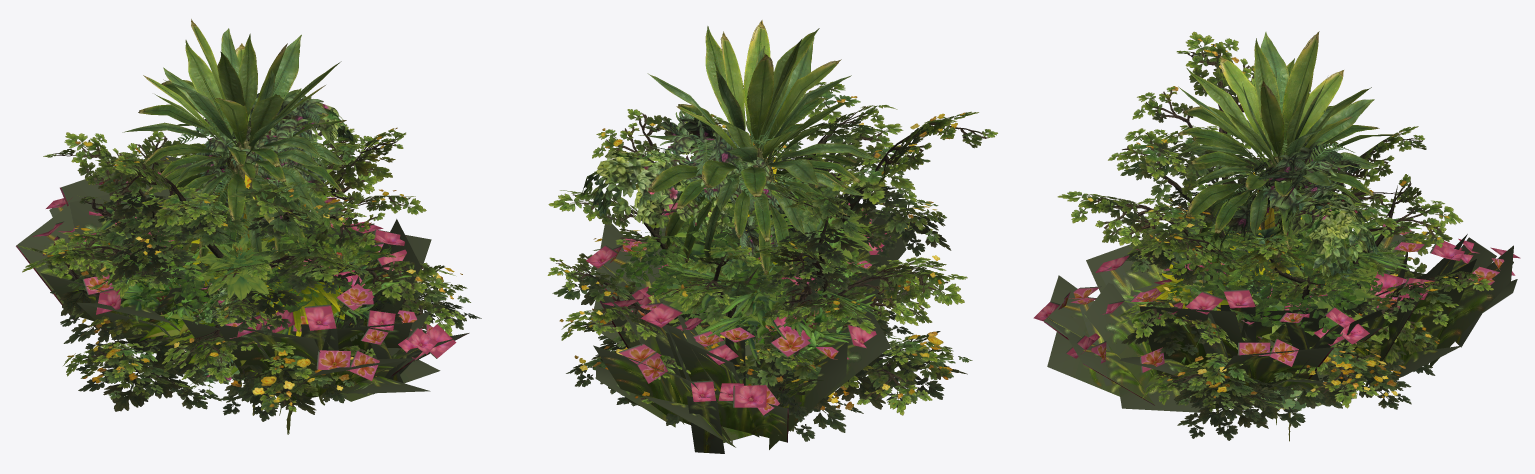
Rendered from huacao.FBX.
3 renders of one model, left to right at view 1: azimuth 30°, elevation 25°; view 2: azimuth 150°, elevation 25°; view 3: azimuth 270°, elevation 25°, orthographic. The views are drawn at different scales.
Parts seen in each view (by area): view 1: byg_plant_frutex001, byg_plant_grass002, hfs_plant_tree016, hfs_plant_tree013, ngg_plant_frutex002, lhd_plant_frutex002, pds_plant_grass_001, ngg_plant_frutex001, byg_plant_grass001; view 2: byg_plant_frutex001, byg_plant_grass002, hfs_plant_tree016, hfs_plant_tree013, pds_plant_grass_001, ngg_plant_frutex001, ngg_plant_frutex002, lhd_plant_frutex002; view 3: byg_plant_frutex001, byg_plant_grass002, hfs_plant_tree016, hfs_plant_tree013, ngg_plant_frutex002, ngg_plant_frutex001, lhd_plant_frutex002, pds_plant_grass_001, hfs_plant_grass002.
Part boxes in pixels (<box>): byg_plant_frutex001: <box>18,124,481,421</box>; byg_plant_grass002: <box>16,156,469,403</box>; hfs_plant_tree016: <box>122,19,346,264</box>; hfs_plant_tree013: <box>140,144,391,312</box>; ngg_plant_frutex002: <box>176,92,327,398</box>; lhd_plant_frutex002: <box>175,234,345,434</box>; pds_plant_grass_001: <box>82,189,411,352</box>; ngg_plant_frutex001: <box>180,96,357,324</box>; byg_plant_grass001: <box>140,291,295,375</box>; byg_plant_frutex001: <box>547,81,997,441</box>; byg_plant_grass002: <box>586,182,914,453</box>; hfs_plant_tree016: <box>638,20,880,275</box>; hfs_plant_tree013: <box>610,174,870,327</box>; pds_plant_grass_001: <box>659,208,880,366</box>; ngg_plant_frutex001: <box>580,149,921,282</box>; ngg_plant_frutex002: <box>644,110,901,347</box>; lhd_plant_frutex002: <box>651,200,874,443</box>; byg_plant_frutex001: <box>1057,31,1494,440</box>; byg_plant_grass002: <box>1033,224,1520,412</box>; hfs_plant_tree016: <box>1177,31,1402,279</box>; hfs_plant_tree013: <box>1159,178,1387,339</box>; ngg_plant_frutex002: <box>1210,138,1366,273</box>; ngg_plant_frutex001: <box>1247,190,1377,279</box>; lhd_plant_frutex002: <box>1150,202,1382,441</box>; pds_plant_grass_001: <box>1122,217,1422,363</box>; hfs_plant_grass002: <box>1229,226,1324,333</box>.
Bounding box in the file's own units: 6.18 × 5.62 × 6.27.
